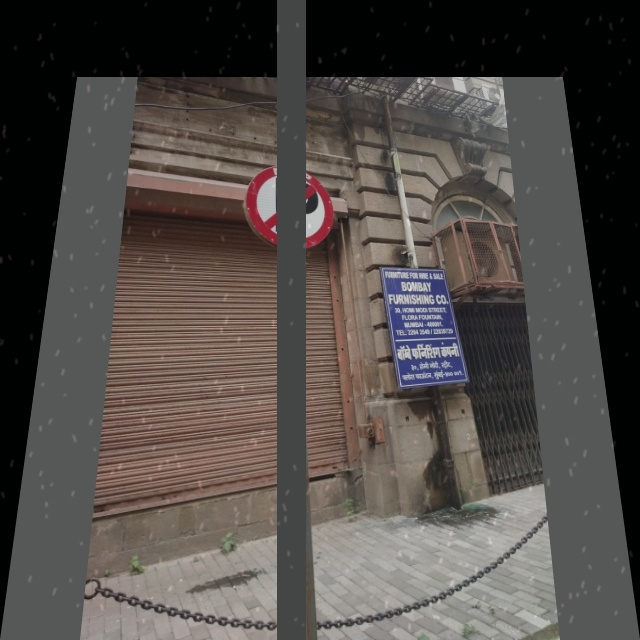No_Parking: (243, 161, 337, 251)
